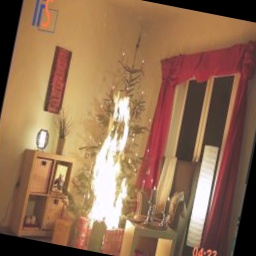fire: (70, 82, 161, 235)
